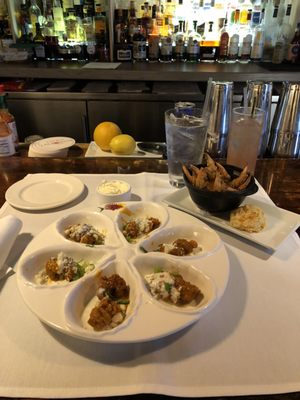sushi: (65, 248, 145, 336), (128, 252, 216, 315), (181, 155, 258, 213), (140, 223, 222, 261), (55, 210, 120, 250), (115, 201, 170, 246), (28, 136, 76, 158)
